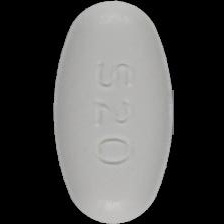33261-134: (0, 0, 224, 224)
